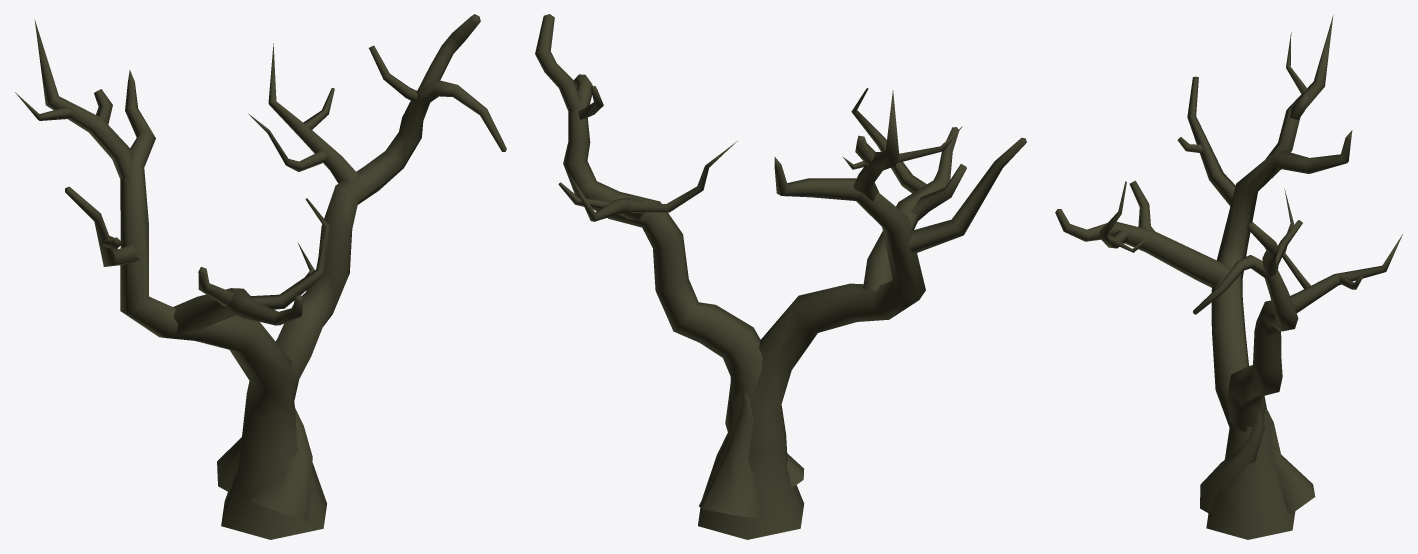
The model's file is SM_KnotwoodDead02.fbx.
3 renders of one model, left to right at view 1: azimuth 30°, elevation 25°; view 2: azimuth 150°, elevation 25°; view 3: azimuth 270°, elevation 25°, orthographic. The views are drawn at different scales.
Parts seen in each view (by area): view 1: SM_KnotwoodDead02; view 2: SM_KnotwoodDead02; view 3: SM_KnotwoodDead02.
Boxes of the visible parts, x1,y1,x2,y2 form: SM_KnotwoodDead02: (15,14,506,539); SM_KnotwoodDead02: (535,14,1026,539); SM_KnotwoodDead02: (1055,15,1402,539).
Bounding box in the file's own units: 1047 × 1132 × 838.
